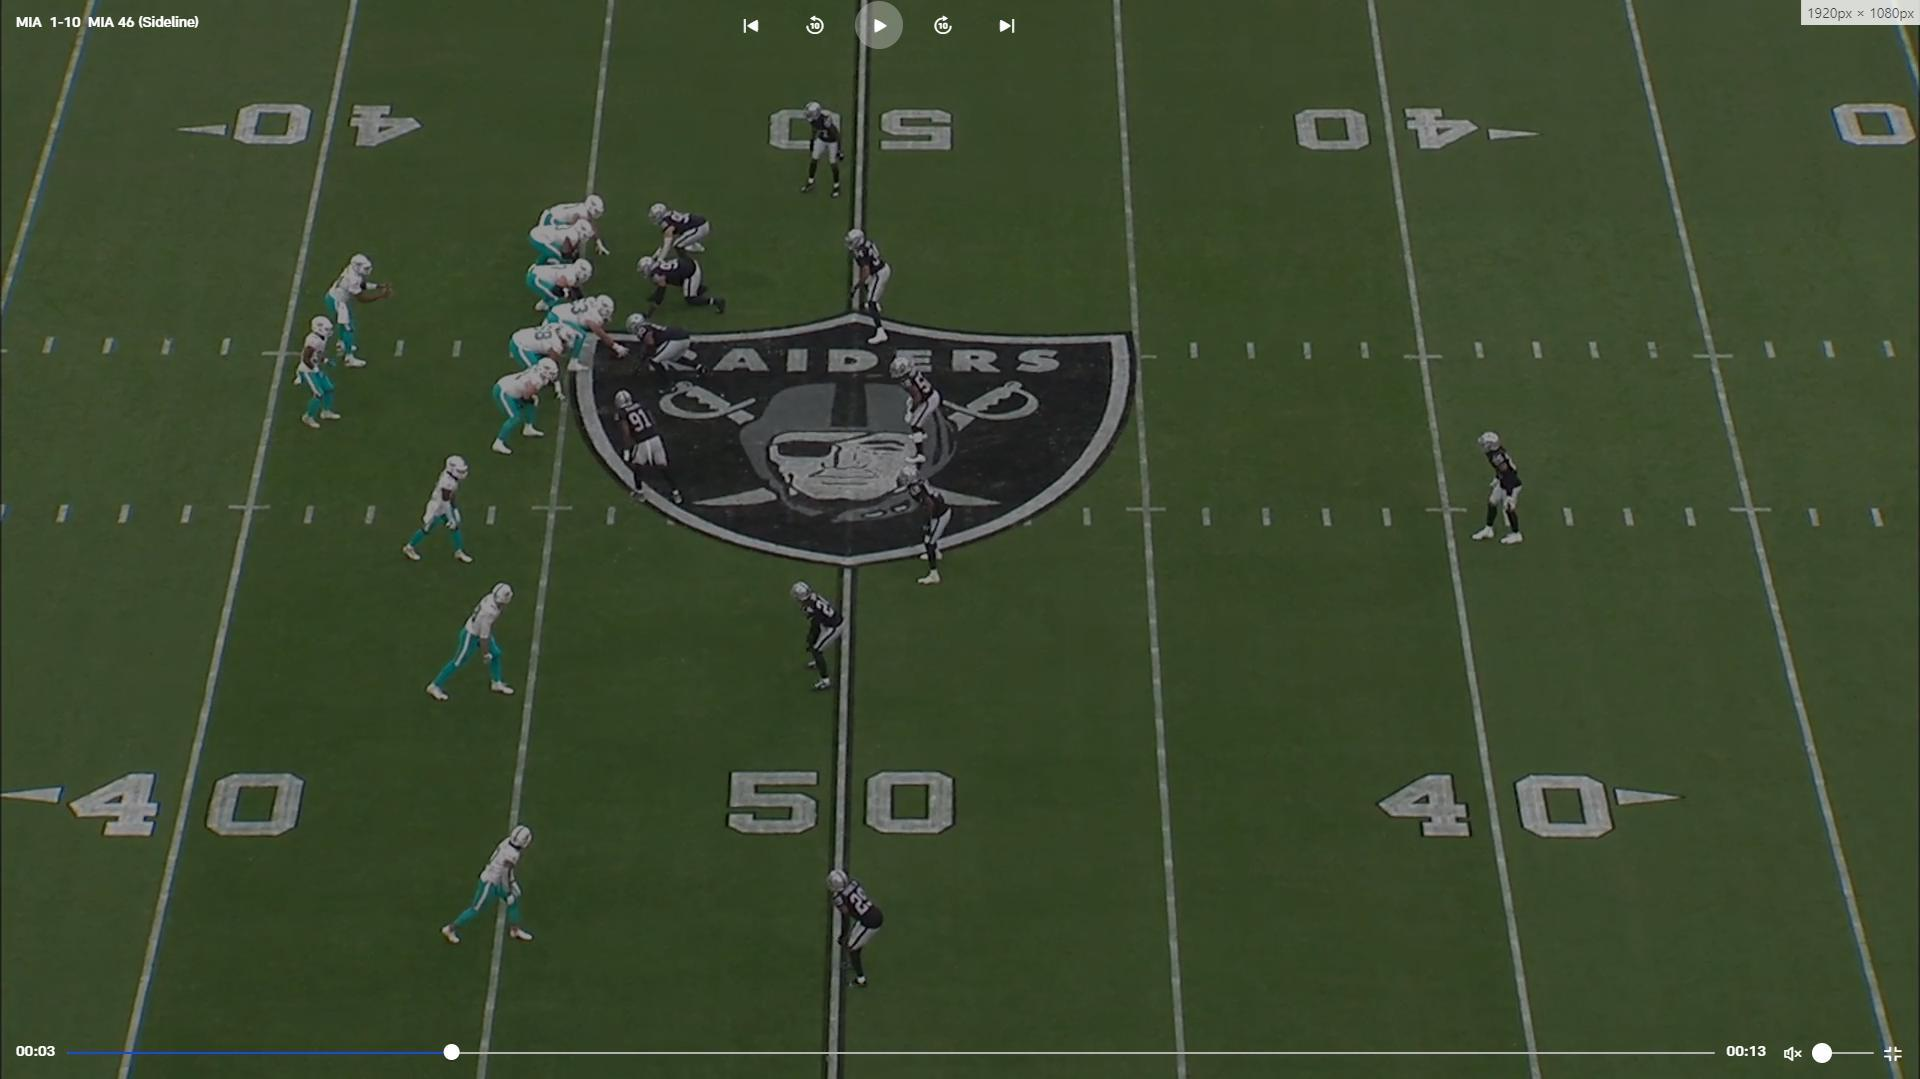defense: (613, 392, 687, 513), (824, 861, 891, 992), (793, 575, 855, 698), (1472, 427, 1530, 550), (906, 462, 957, 592), (844, 227, 895, 355), (618, 310, 704, 383), (632, 255, 725, 319), (800, 96, 853, 195), (899, 361, 943, 479), (644, 199, 715, 262)
oline: (493, 359, 566, 458), (553, 292, 629, 372), (525, 218, 596, 284), (527, 259, 596, 326), (510, 322, 582, 381)
qb: (326, 248, 392, 372)
skill: (436, 820, 550, 952), (421, 580, 524, 710), (398, 451, 479, 569), (291, 313, 340, 434), (537, 193, 618, 257)
